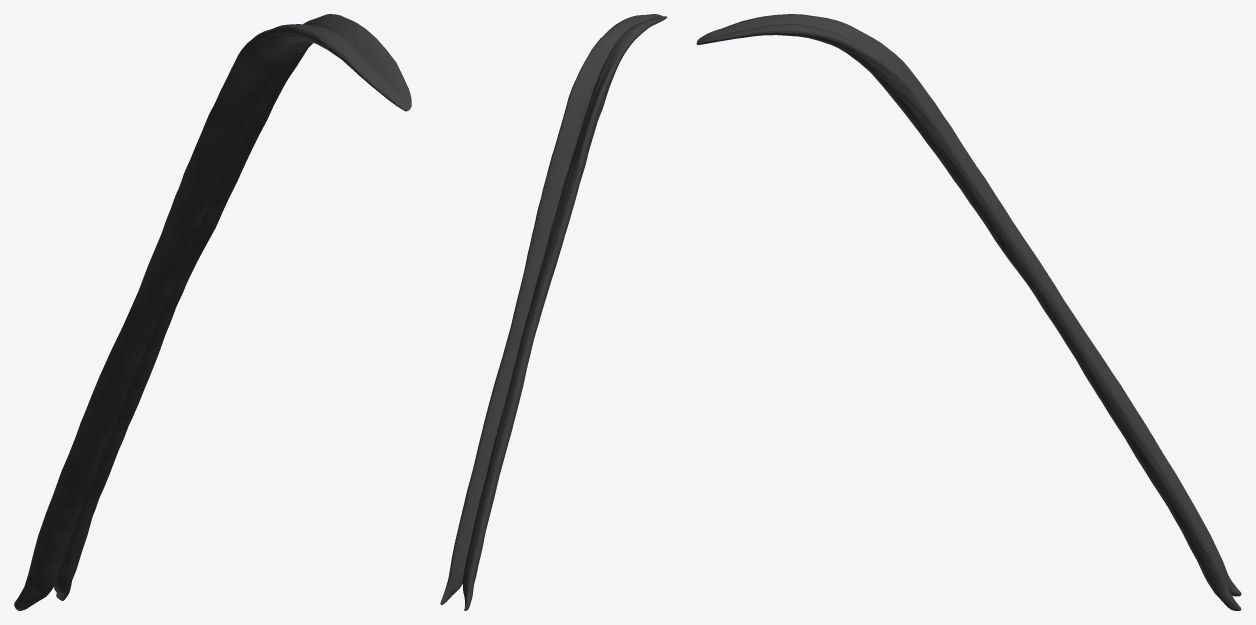
Rendered from m_sternohyoideus.glb.
3 renders of one model, left to right at view 1: azimuth 30°, elevation 25°; view 2: azimuth 150°, elevation 25°; view 3: azimuth 270°, elevation 25°, orthographic. The views are drawn at different scales.
Parts seen in each view (by area): view 1: m_sternohyoideus; view 2: m_sternohyoideus; view 3: m_sternohyoideus.
Part boxes in pixels (x1,y1,x2,y2): m_sternohyoideus: (14, 14, 411, 610); m_sternohyoideus: (440, 14, 667, 610); m_sternohyoideus: (696, 14, 1241, 610).
Bounding box in the file's own units: 0.000621 × 0.00851 × 0.0072.
Materials: 1 (1 with a texture image).
